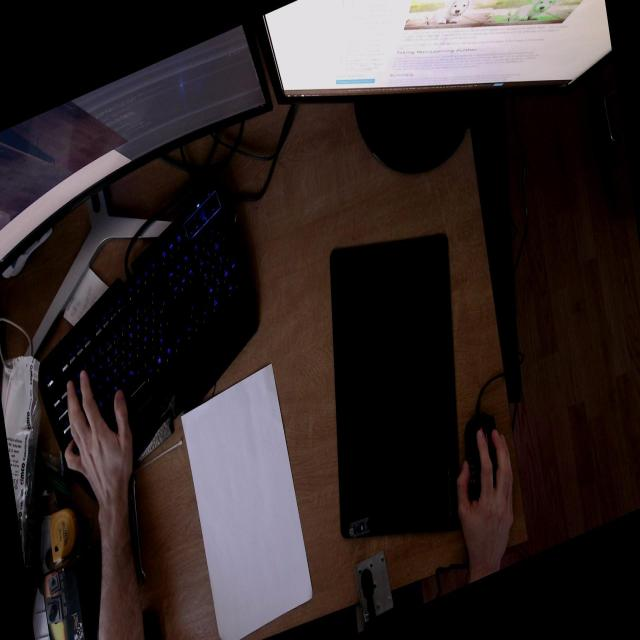keyboard-with-hands: (31, 163, 272, 517)
